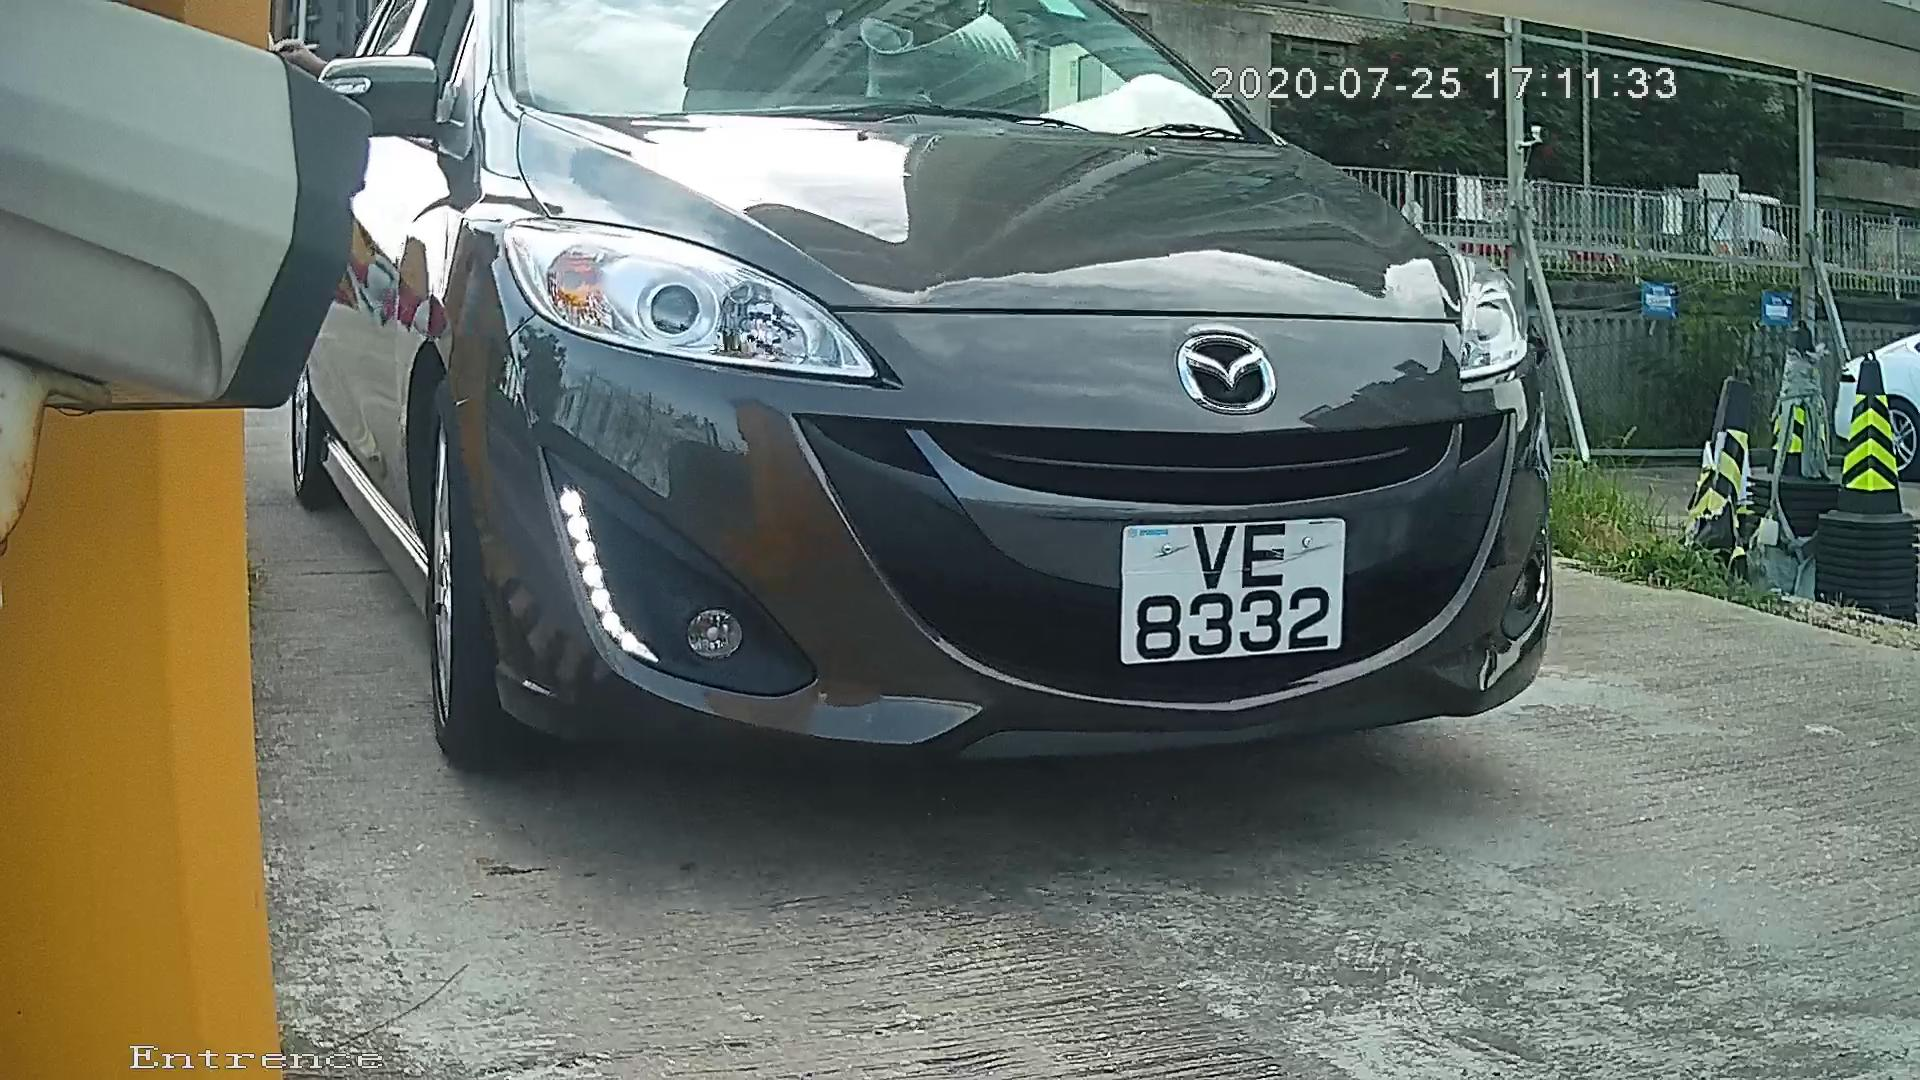License Plate: (1106, 502, 1363, 685)
